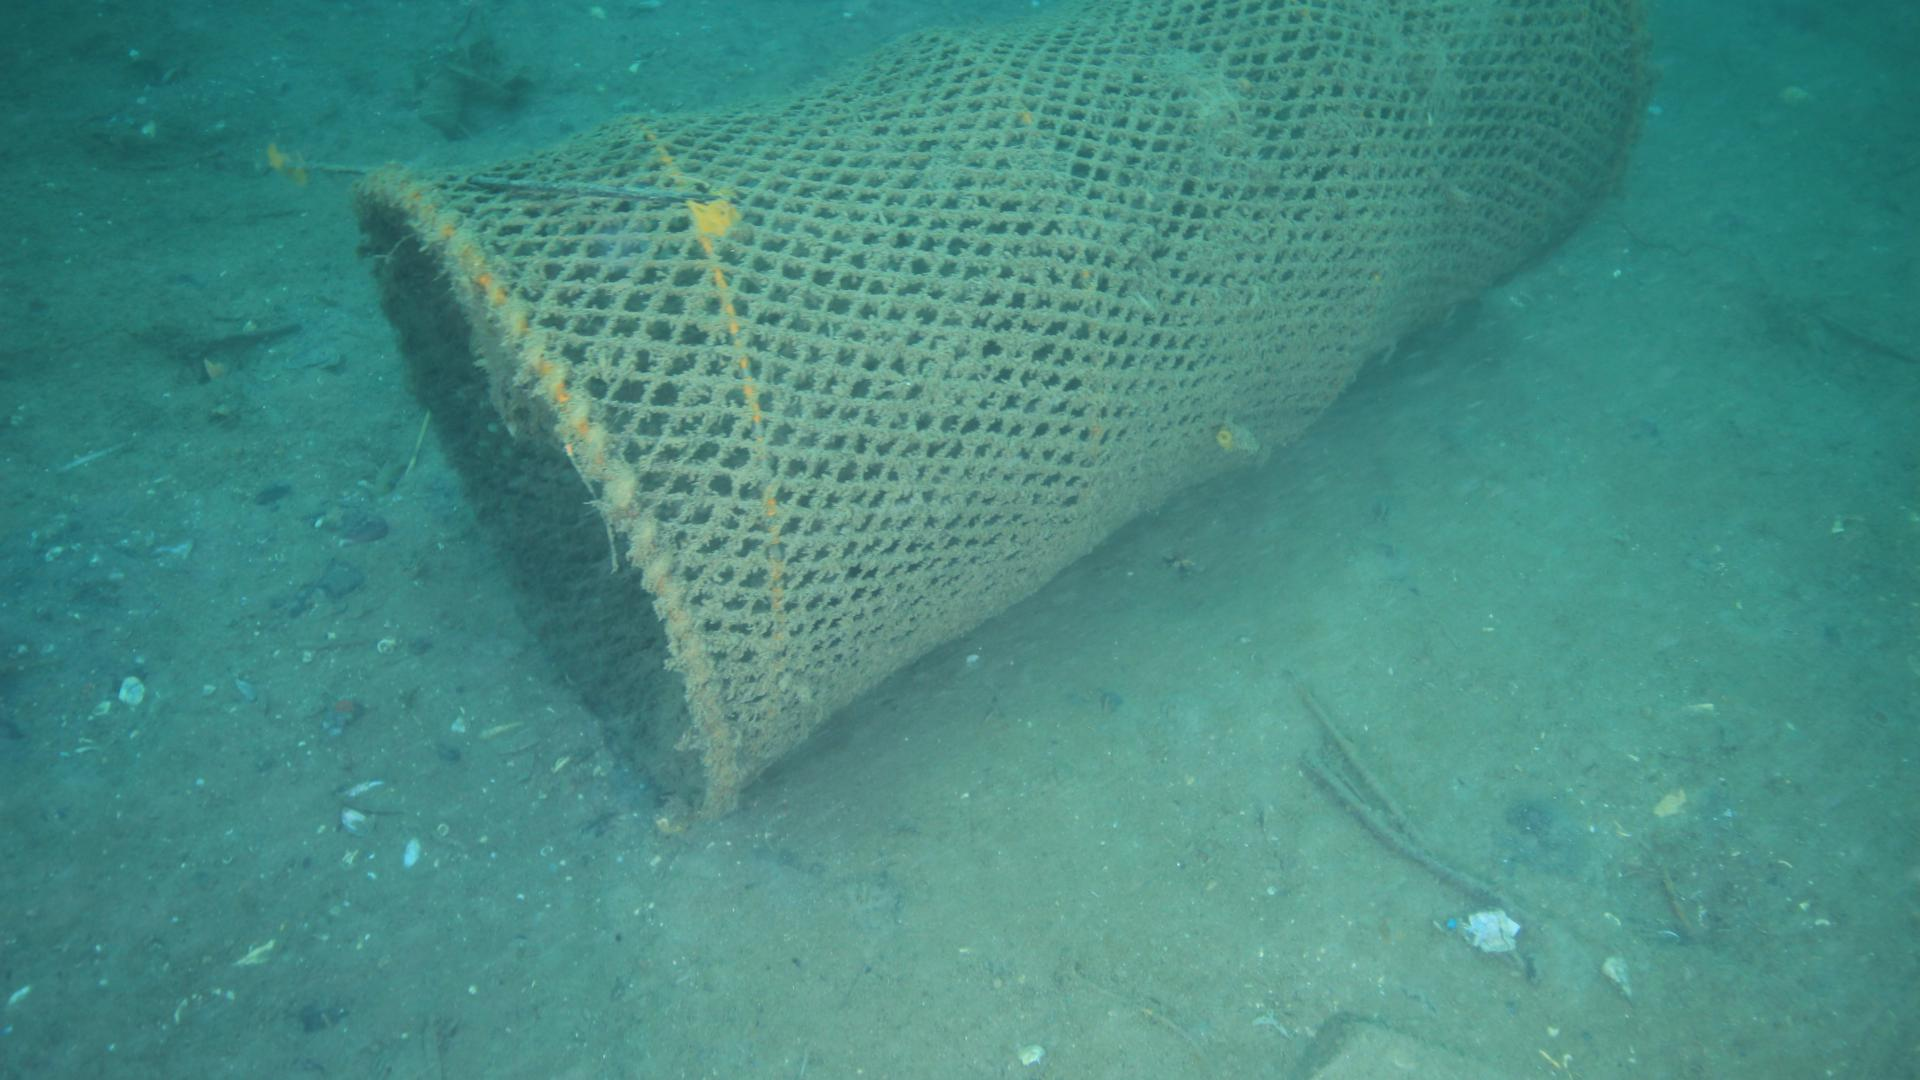spring fish trap: (351, 0, 1651, 829)
